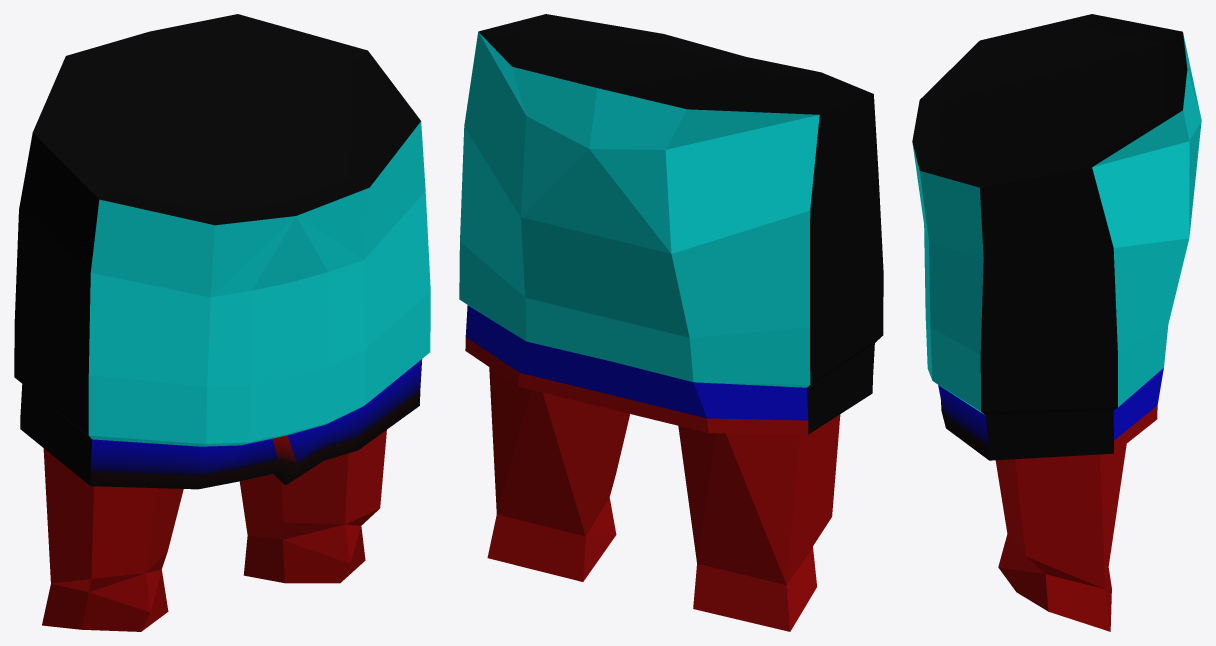
The model's file is Chr_Hips_Male_Static_17.fbx.
3 renders of one model, left to right at view 1: azimuth 30°, elevation 25°; view 2: azimuth 150°, elevation 25°; view 3: azimuth 270°, elevation 25°, orthographic. The views are drawn at different scales.
Parts seen in each view (by area): view 1: Chr_Hips_Male_17; view 2: Chr_Hips_Male_17; view 3: Chr_Hips_Male_17.
Boxes of the visible parts, x1=… form: Chr_Hips_Male_17: x1=14, y1=14, x2=430, y2=631; Chr_Hips_Male_17: x1=459, y1=14, x2=883, y2=631; Chr_Hips_Male_17: x1=912, y1=14, x2=1201, y2=631.
Size of the model in its own units: 38.36 by 56.15 by 29.77.
